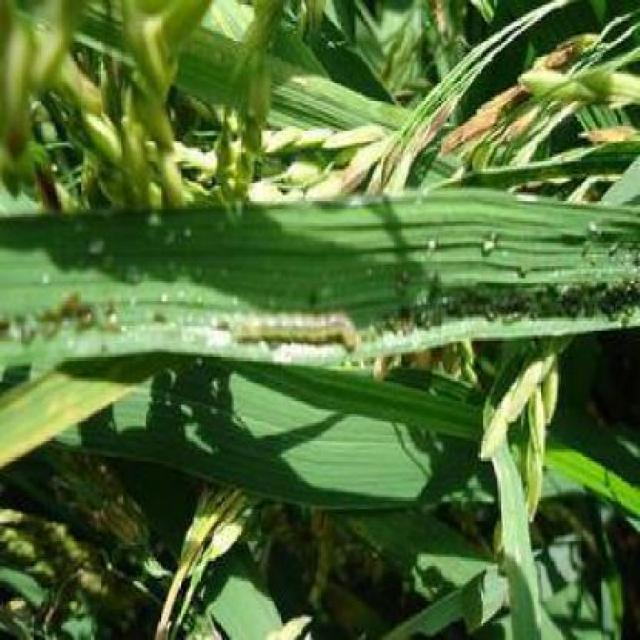leaf-folder: (203, 279, 385, 381)
